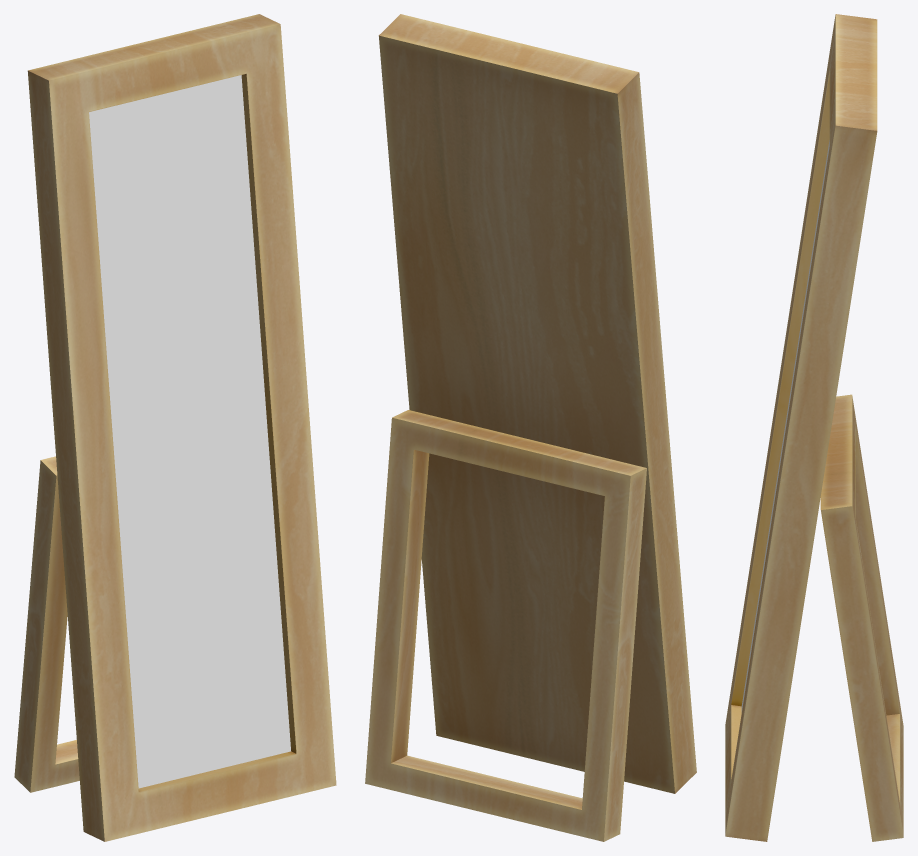
File: stylized_low_poly_wooden_full_length_mirror.glb
3 views of the same model, side by side, from view 1: azimuth 30°, elevation 25°; view 2: azimuth 150°, elevation 25°; view 3: azimuth 270°, elevation 25° (orthographic). The views are drawn at different scales.
Visible parts, largest first — view 1: wooden_full_length_mirror; view 2: wooden_full_length_mirror; view 3: wooden_full_length_mirror.
Part boxes in pixels (x1,y1,x2,y2): wooden_full_length_mirror: (14,14,336,841); wooden_full_length_mirror: (365,14,696,841); wooden_full_length_mirror: (725,14,903,841).
Size of the model in its own units: 0.5 by 1.5 by 0.3376.
Materials: 1 (1 with a texture image).
